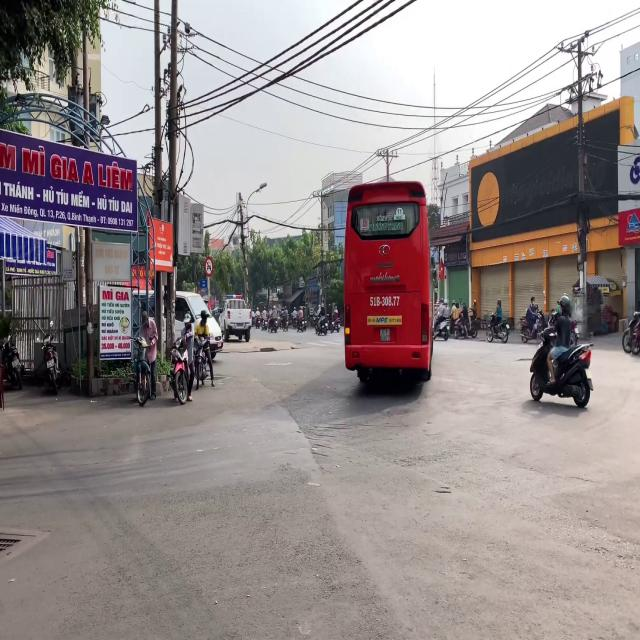bien_trang: (380, 329, 390, 342)
